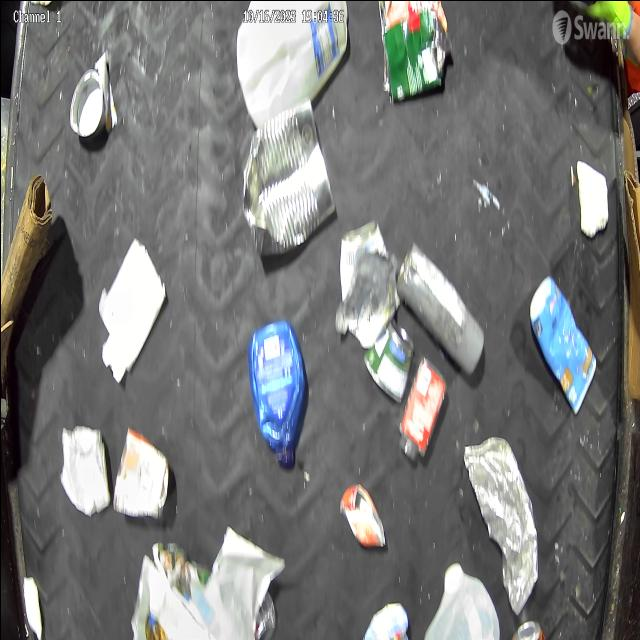can: (240, 94, 335, 258), (382, 9, 448, 103), (112, 425, 169, 519), (59, 424, 108, 516), (362, 318, 413, 402), (338, 220, 386, 304), (69, 61, 112, 141), (338, 483, 386, 548), (377, 0, 448, 31), (510, 618, 544, 640)
milk_jug: (234, 0, 348, 128), (423, 559, 499, 640)
non_white_jug: (528, 273, 596, 413), (248, 321, 306, 467)
